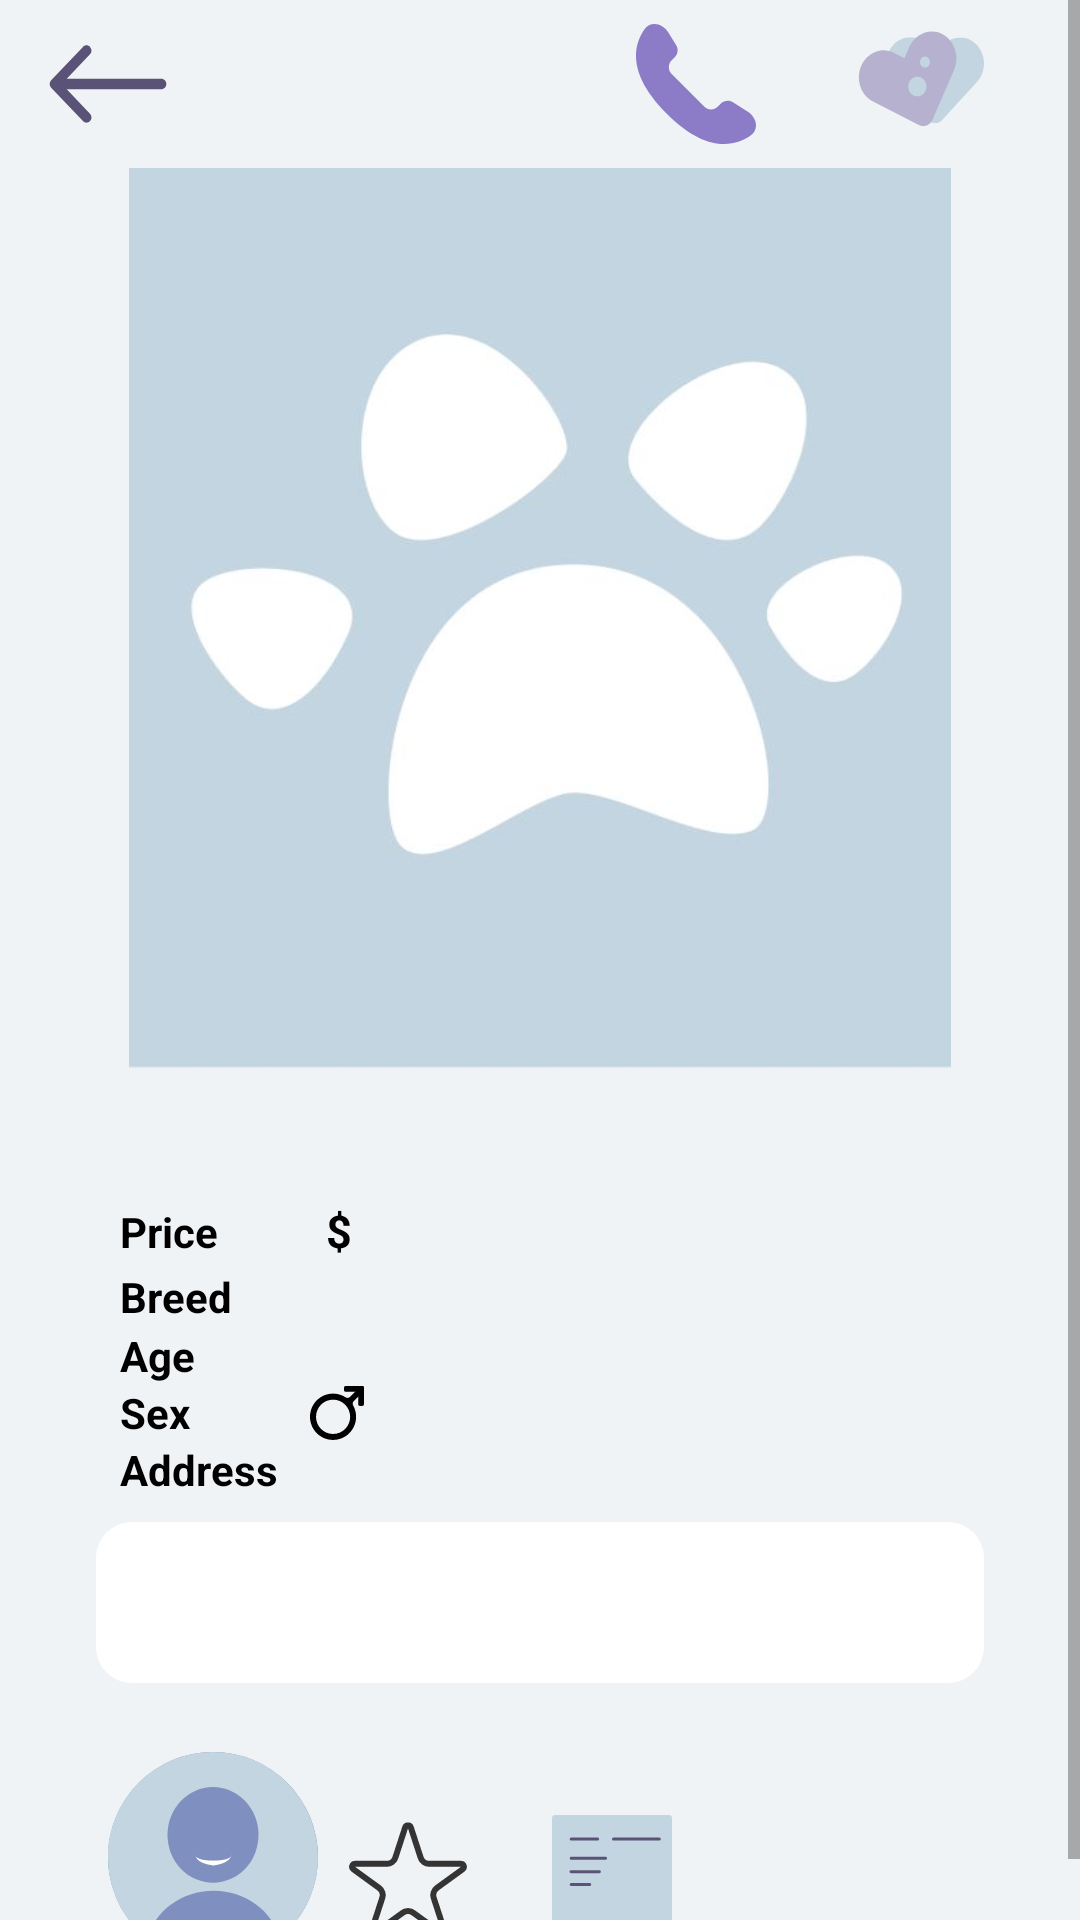

Where icons sit on this 1080px×1920px app screen, as (x1, y1, x2, y2):
arrow: (49, 45, 167, 123)
call: (636, 24, 756, 144)
male: (310, 1386, 364, 1440)
